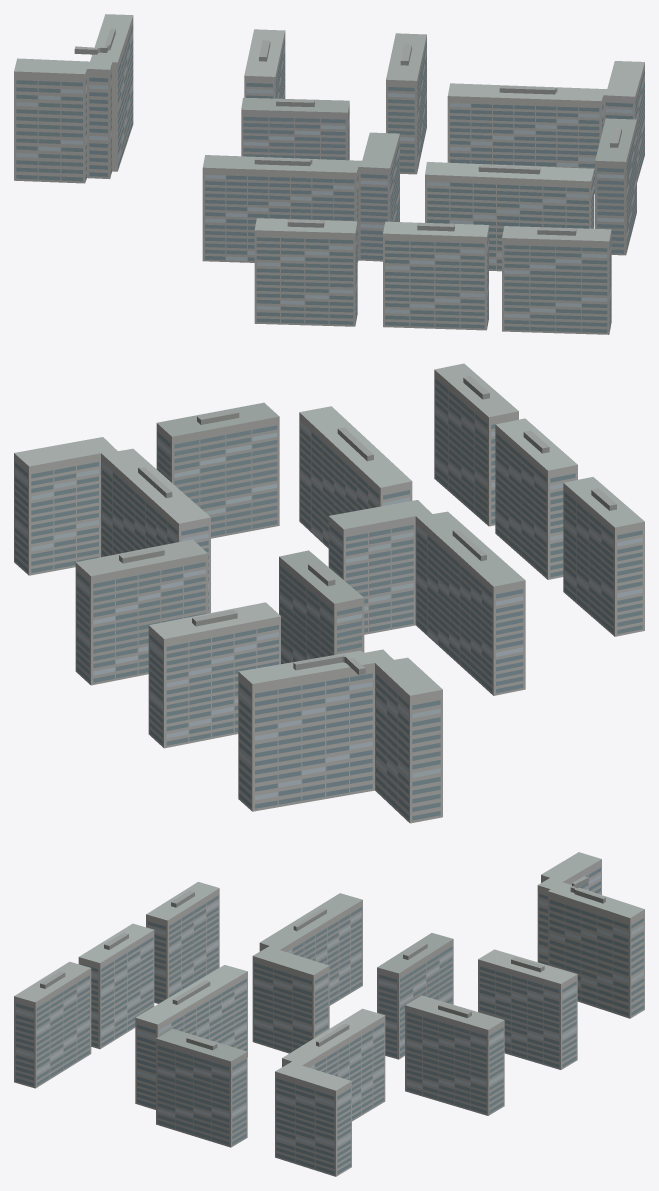
File: apt-a15774708.glb
3 renders of one model, top to bottom at view 1: azimuth 30°, elevation 25°; view 2: azimuth 150°, elevation 25°; view 3: azimuth 270°, elevation 25°, orthographic. The views are drawn at different scales.
Visible parts, largest first — view 1: apt-a15774708; view 2: apt-a15774708; view 3: apt-a15774708.
Part boxes in pixels (left/top/right/bottom): apt-a15774708: left=14, top=14, right=644, bottom=334; apt-a15774708: left=14, top=363, right=644, bottom=823; apt-a15774708: left=14, top=852, right=644, bottom=1176.
Size of the model in its own units: 219 by 47.81 by 260.
